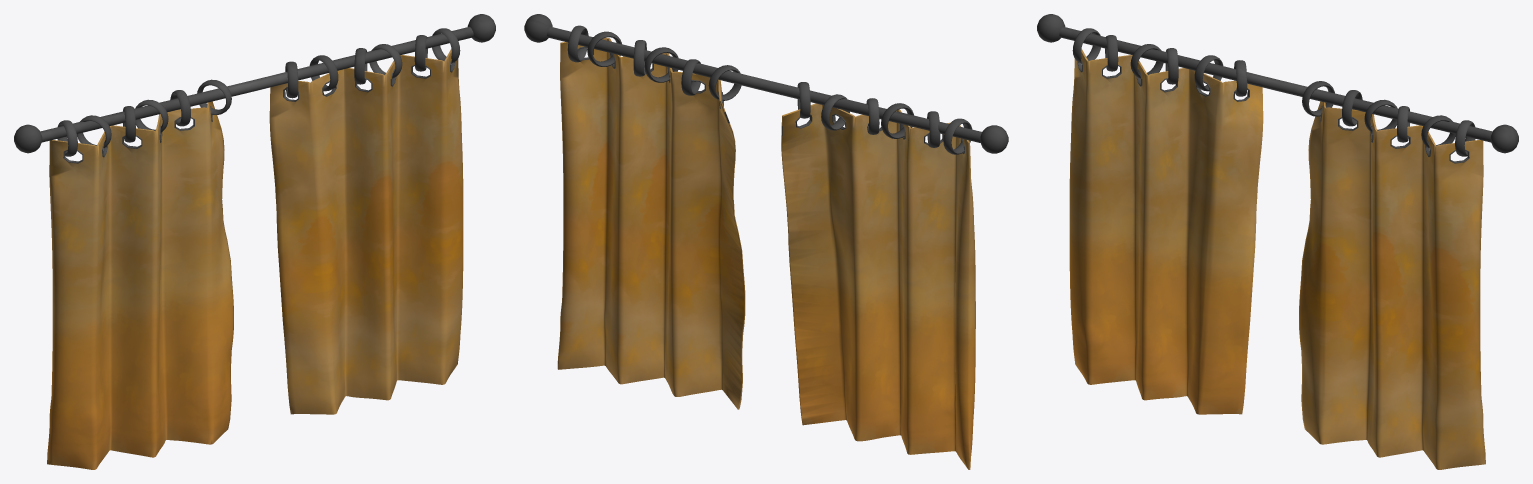
Rendered from House_Curtain02_v01.fbx.
The picture shows the model from 3 angles, left to right: view 1: azimuth 30°, elevation 25°; view 2: azimuth 150°, elevation 25°; view 3: azimuth 330°, elevation 25°; orthographic projection.
Visible parts, largest first — view 1: Curtain2_Fabric, Curtain2_Ring, Curtain2_Pole, Curtain2_Ball, Curtain2_Hole; view 2: Curtain2_Fabric, Curtain2_Ring, Curtain2_Pole, Curtain2_Ball, Curtain2_Hole; view 3: Curtain2_Fabric, Curtain2_Ring, Curtain2_Pole, Curtain2_Ball, Curtain2_Hole.
Boxes of the visible parts, left/top/right/bottom form: Curtain2_Fabric: left=47, top=48, right=463, bottom=469; Curtain2_Ring: left=57, top=28, right=460, bottom=156; Curtain2_Pole: left=40, top=26, right=473, bottom=142; Curtain2_Ball: left=14, top=14, right=495, bottom=153; Curtain2_Hole: left=63, top=59, right=455, bottom=163; Curtain2_Fabric: left=557, top=37, right=975, bottom=469; Curtain2_Ring: left=567, top=25, right=972, bottom=154; Curtain2_Pole: left=547, top=27, right=981, bottom=142; Curtain2_Ball: left=524, top=14, right=1008, bottom=153; Curtain2_Hole: left=577, top=46, right=964, bottom=154; Curtain2_Fabric: left=1069, top=48, right=1485, bottom=469; Curtain2_Ring: left=1072, top=28, right=1475, bottom=156; Curtain2_Pole: left=1059, top=26, right=1492, bottom=142; Curtain2_Ball: left=1037, top=14, right=1518, bottom=153; Curtain2_Hole: left=1077, top=59, right=1469, bottom=163.
Size of the model in its own units: 292 by 35.51 by 203.
Materials: 1 (1 with a texture image).
